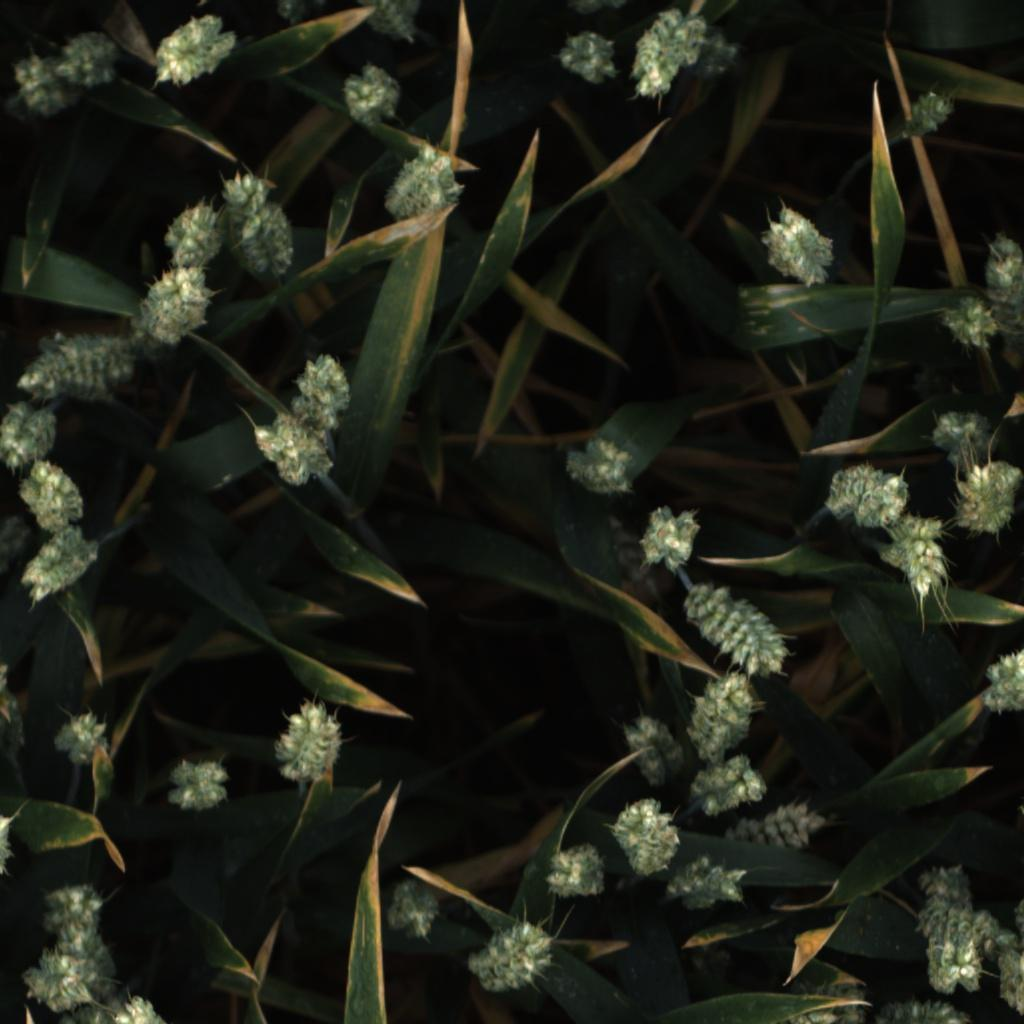0-0: (679, 580, 794, 687), (12, 326, 140, 405), (912, 860, 985, 995), (220, 166, 298, 288), (467, 912, 561, 997), (756, 200, 842, 291), (630, 9, 713, 102), (682, 676, 771, 761), (269, 692, 345, 786), (154, 10, 236, 95), (383, 140, 465, 224), (248, 410, 334, 490), (136, 261, 215, 347), (16, 528, 104, 605), (949, 457, 1021, 542), (612, 790, 682, 877), (688, 749, 772, 820), (14, 463, 93, 534), (890, 514, 953, 602), (664, 853, 756, 913), (291, 349, 358, 428), (17, 950, 99, 1014), (601, 512, 661, 599), (0, 399, 66, 475), (732, 804, 829, 855), (985, 230, 1024, 356), (50, 925, 119, 996), (542, 835, 612, 904), (160, 751, 231, 819), (333, 64, 406, 130), (564, 435, 639, 499), (13, 52, 84, 119), (637, 503, 703, 575), (617, 709, 681, 783), (163, 196, 227, 266), (47, 707, 114, 773), (381, 873, 444, 942), (925, 405, 1001, 462), (551, 28, 622, 89), (936, 289, 999, 356), (56, 26, 121, 90), (38, 881, 107, 941), (821, 461, 884, 523), (976, 644, 1024, 719), (784, 983, 869, 1024), (895, 88, 958, 143), (854, 471, 911, 531), (355, 0, 424, 46), (868, 998, 974, 1024), (969, 907, 1022, 958), (0, 512, 30, 578), (108, 993, 171, 1023), (703, 30, 743, 77), (0, 812, 25, 879), (877, 541, 917, 574), (54, 1002, 110, 1024), (567, 0, 627, 15), (275, 0, 309, 25), (1011, 899, 1024, 947)
